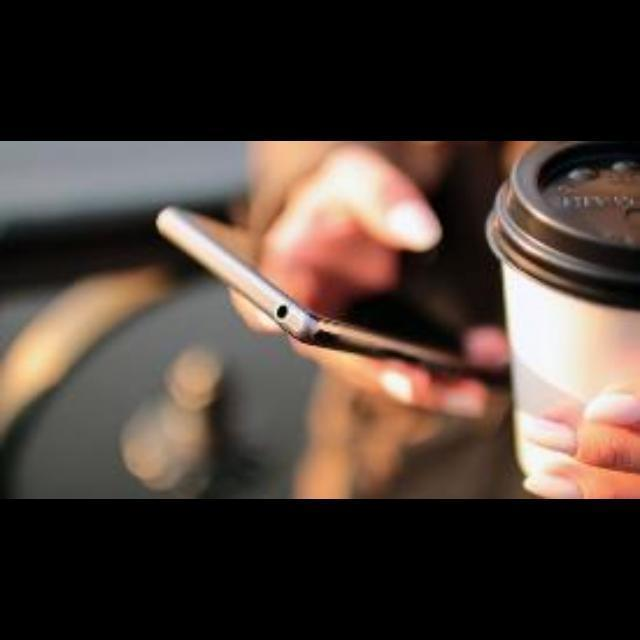phone: (150, 175, 520, 448)
